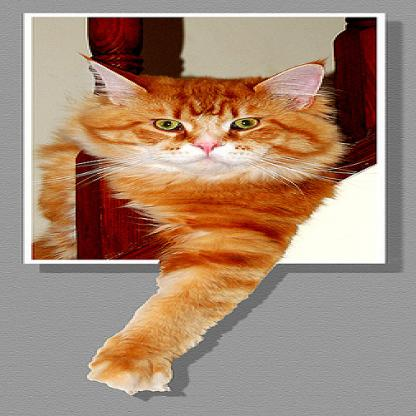cat: (68, 43, 332, 400)
